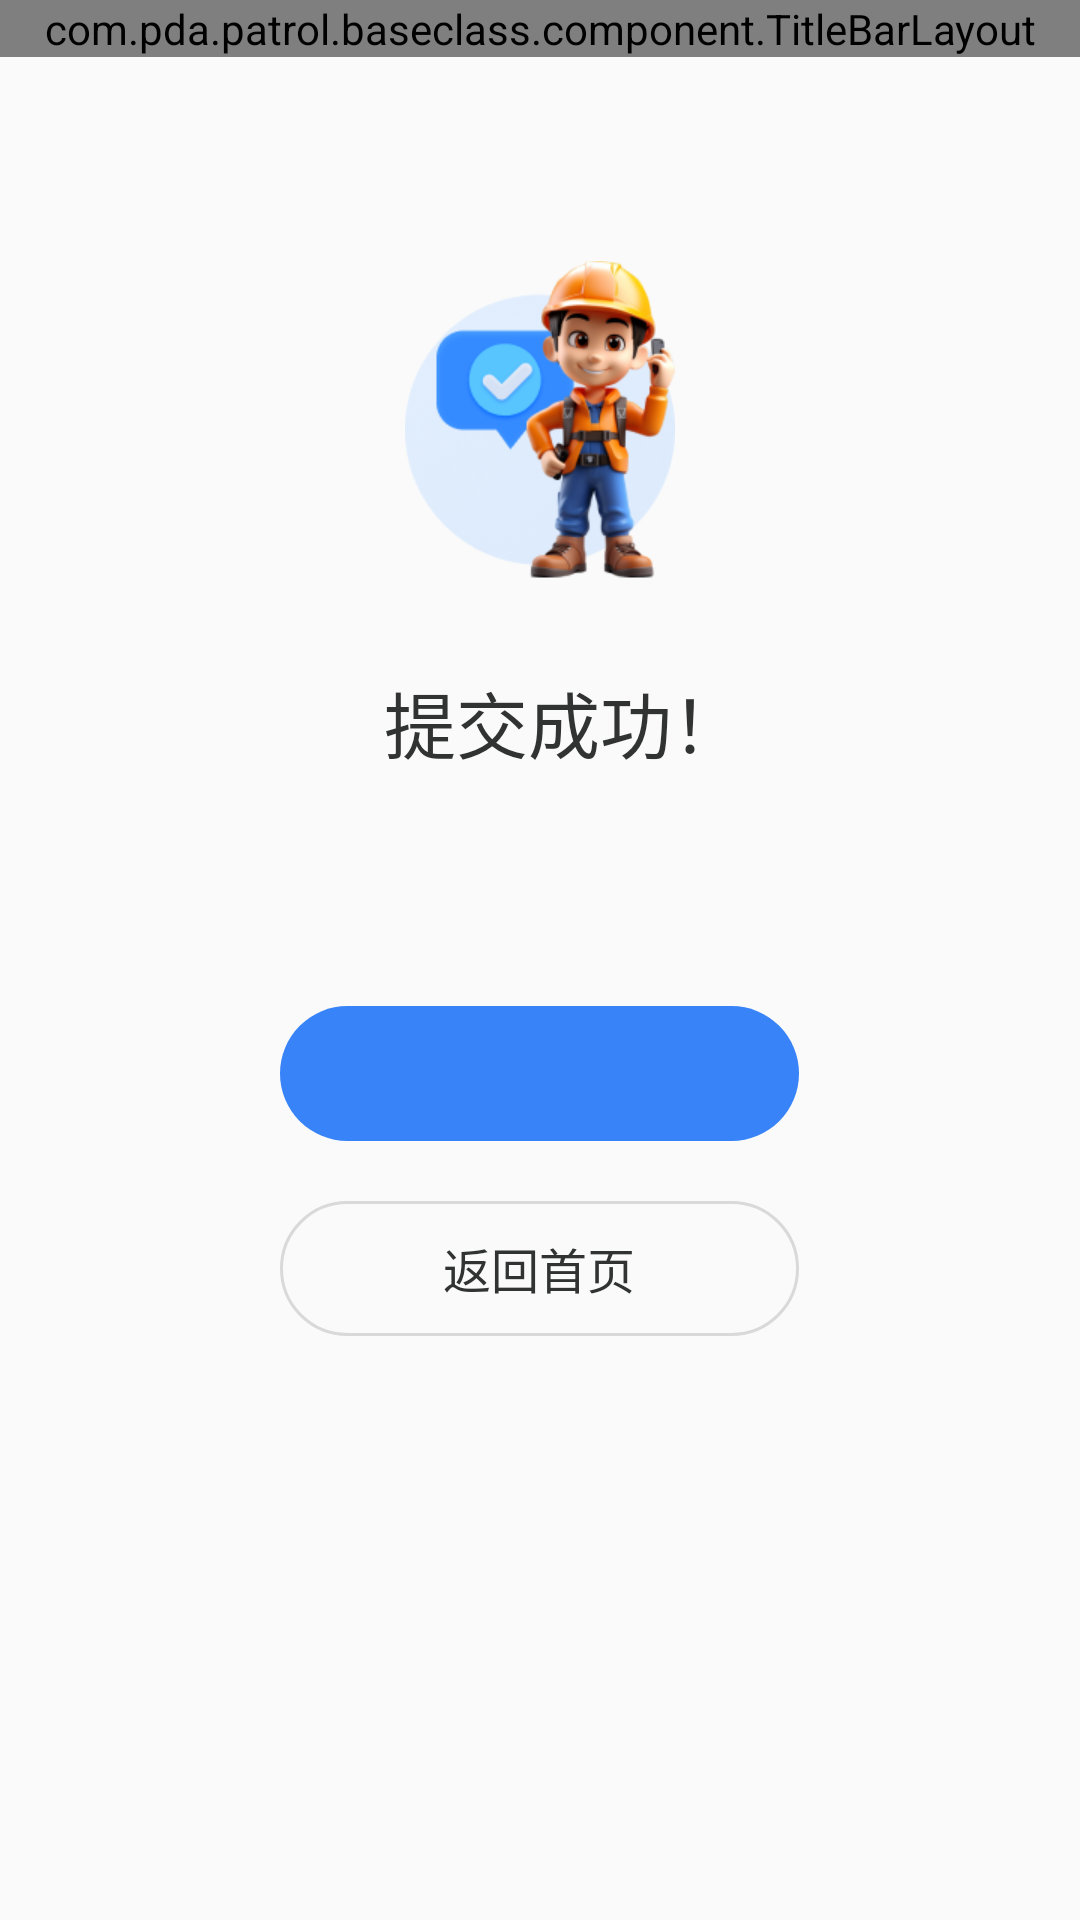

Icon bounding boxes for this 1080px x 1920px phone screenshot, format (x1, y1, x2, y2):
success: (405, 261, 675, 578)
